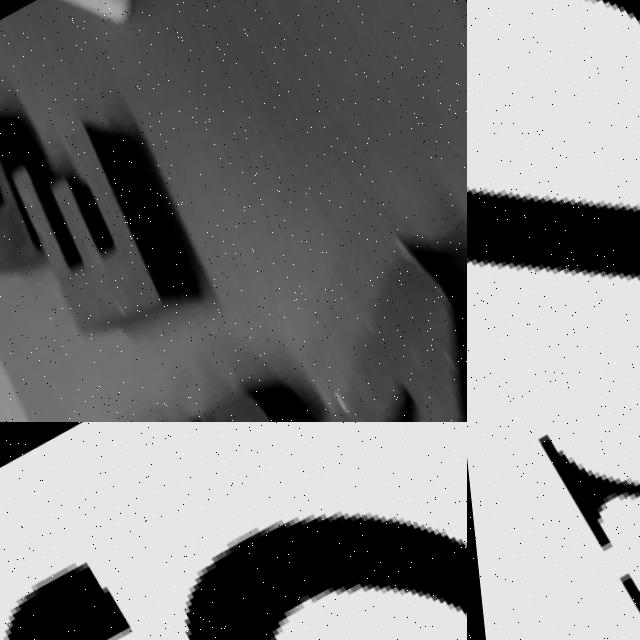6: (0, 422, 467, 640)
B: (0, 97, 88, 317)
E: (0, 111, 222, 386)
G: (128, 354, 367, 422)
N: (215, 165, 467, 422)
W: (497, 422, 640, 640)
Z: (467, 0, 640, 422)
